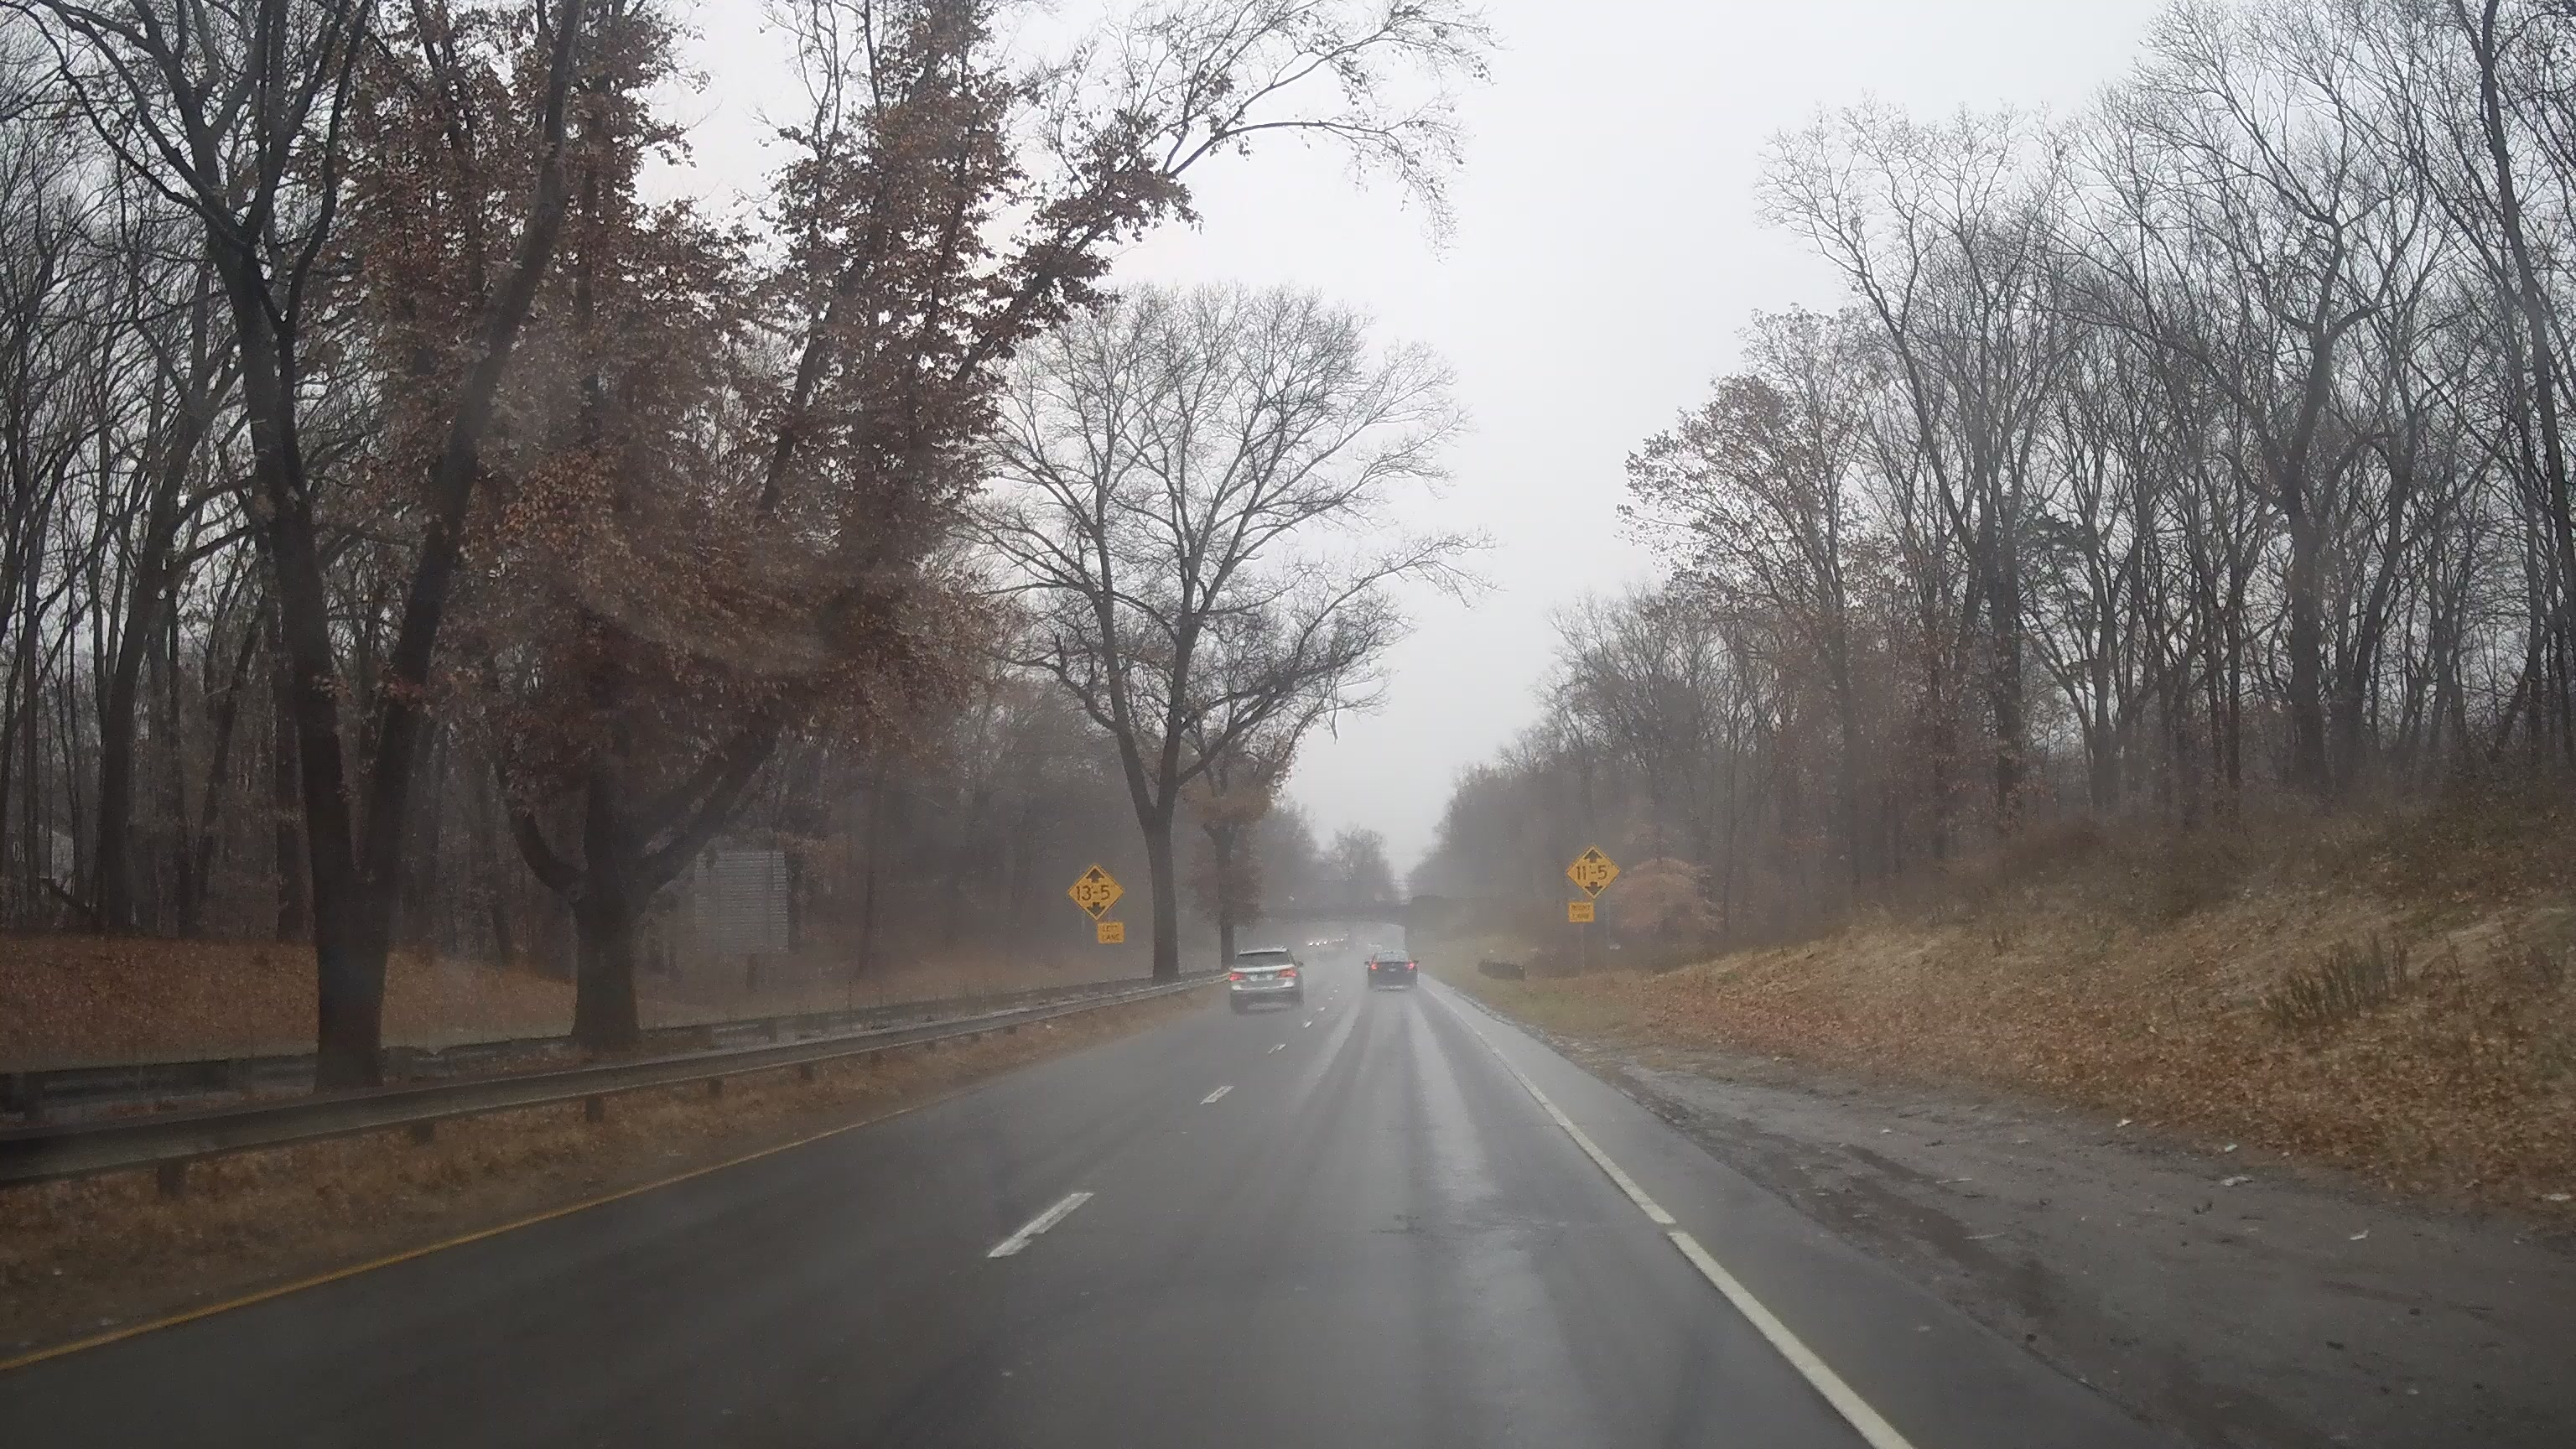low-clearance-sign: (1067, 863, 1125, 922), (1566, 844, 1621, 901)
